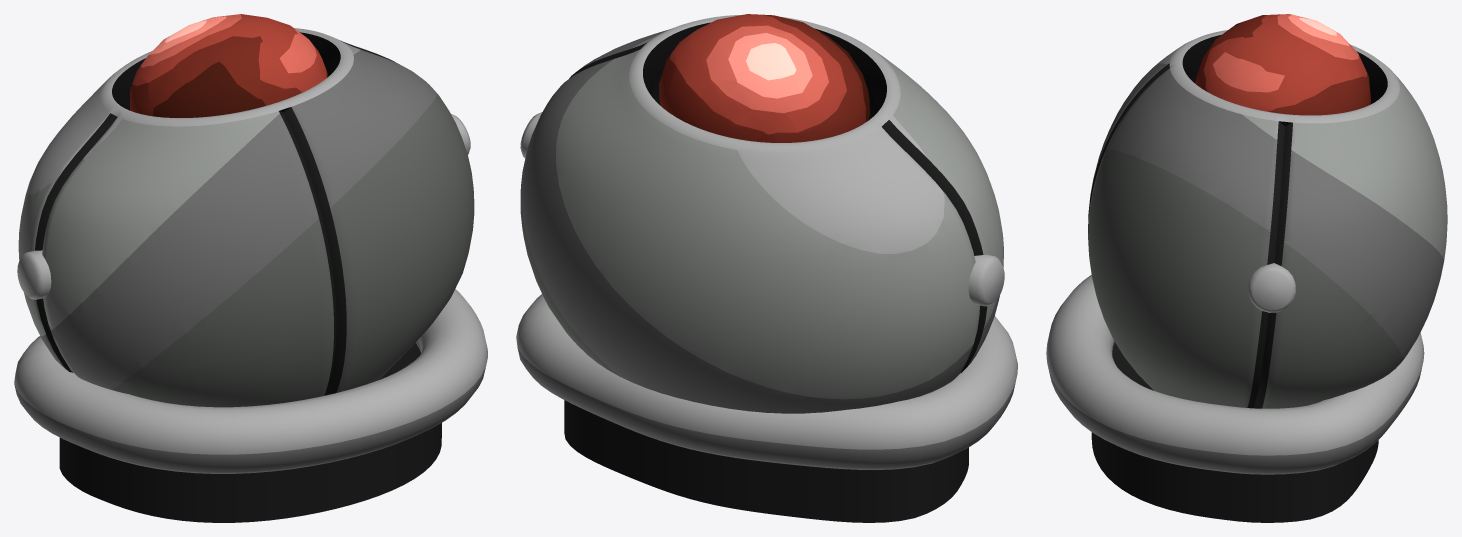
File: eye_orb_85.glb
3 views of the same model, side by side, from view 1: azimuth 30°, elevation 25°; view 2: azimuth 150°, elevation 25°; view 3: azimuth 270°, elevation 25° (orthographic). The views are drawn at different scales.
Visible parts, largest first — view 1: shell, rim, foot, eye, boss-1; view 2: shell, rim, eye, foot, boss-1; view 3: shell, rim, eye, foot, boss1.
Boxes of the visible parts, bbox=[...] form: shell: bbox=[18, 28, 474, 407]; rim: bbox=[14, 289, 487, 473]; foot: bbox=[59, 343, 441, 522]; eye: bbox=[130, 14, 327, 117]; boss-1: bbox=[17, 250, 51, 299]; shell: bbox=[520, 15, 1003, 413]; rim: bbox=[516, 294, 1017, 469]; eye: bbox=[659, 14, 869, 142]; foot: bbox=[564, 400, 968, 522]; boss-1: bbox=[968, 254, 1004, 306]; shell: bbox=[1088, 30, 1447, 408]; rim: bbox=[1046, 275, 1424, 474]; eye: bbox=[1195, 14, 1370, 115]; foot: bbox=[1091, 342, 1378, 522]; boss1: bbox=[1248, 263, 1295, 312].
Bounding box in the file's own units: 22.03 × 19.91 × 17.65.
